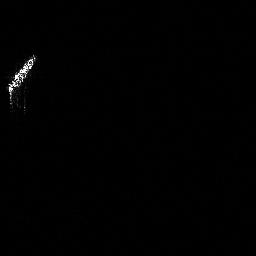ship: (5, 50, 39, 113)
